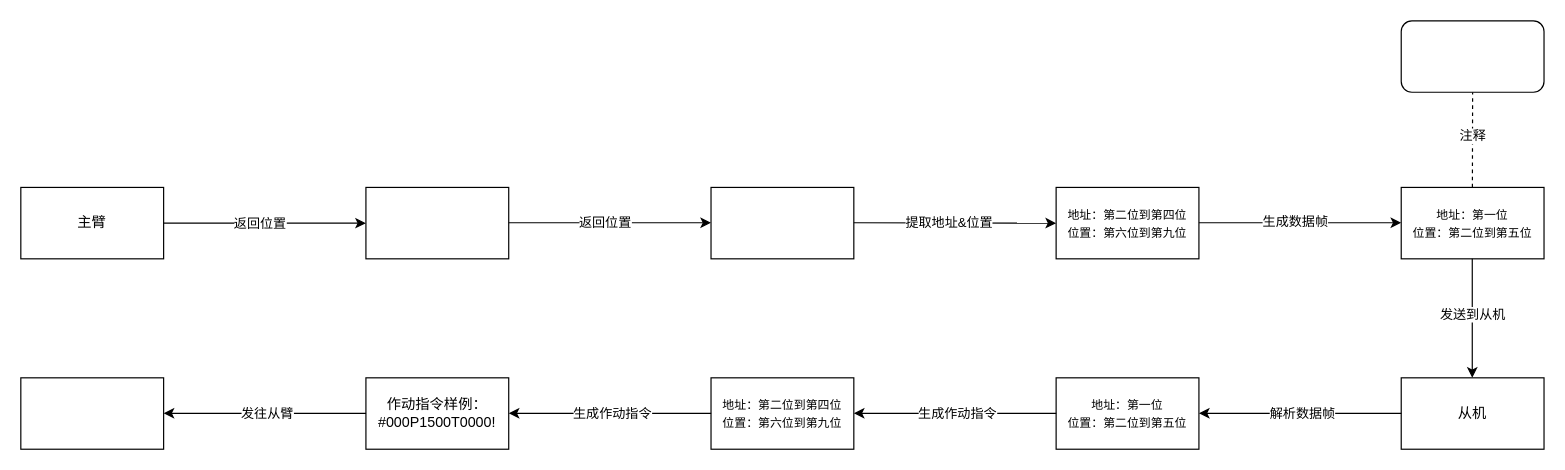
The diagram is 1565 pixels wide and 470 high, and some of its shapes have lost their labels. The box of each missing label's shape, as (x1, y1, x2, y2) in pixels:
主机: (710, 186, 854, 259)
从臂: (20, 377, 164, 449)
机械臂只有六个自由度 地址取最后一位即可: (1400, 20, 1544, 92)
返回值样例： #000P1500!: (365, 186, 509, 259)
